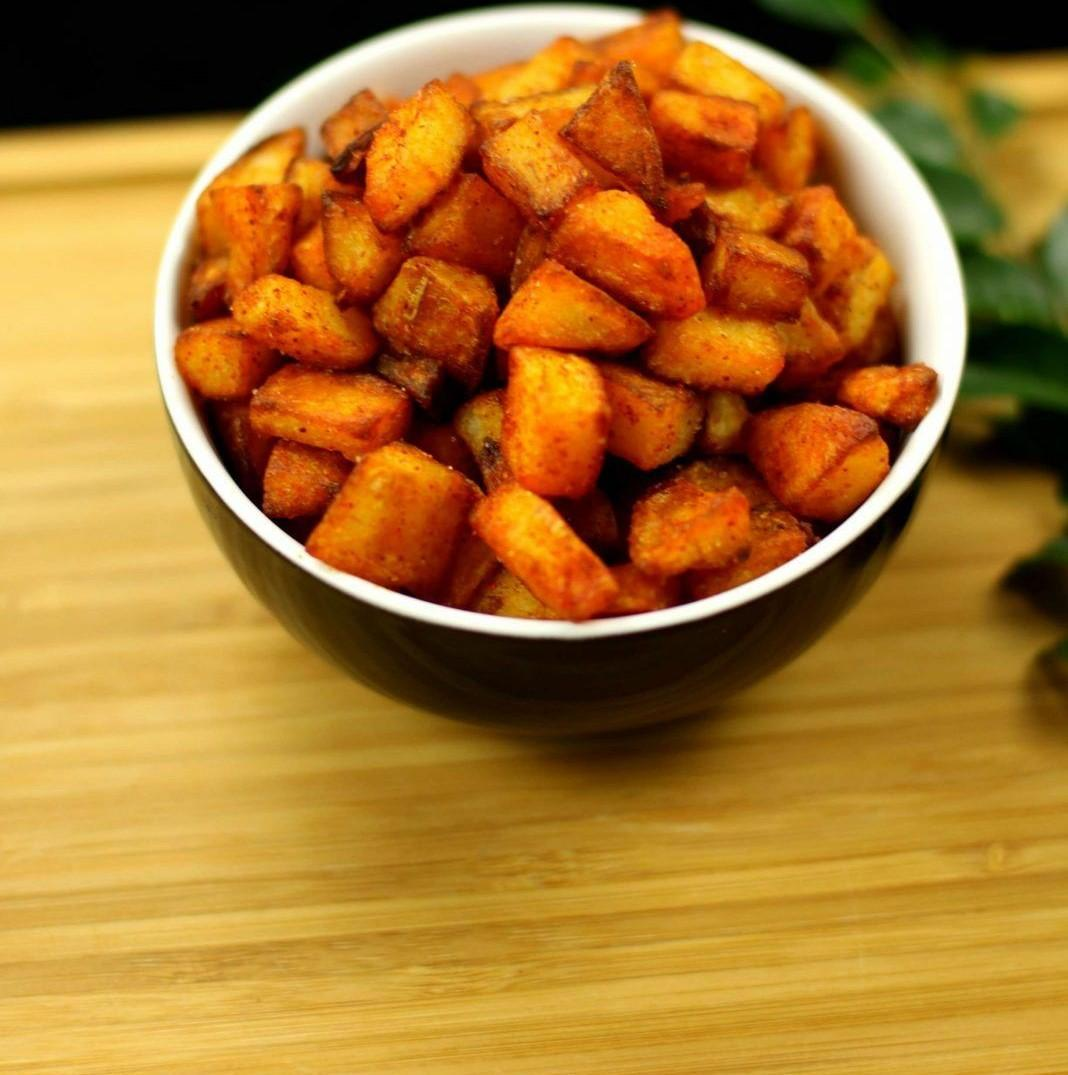AlooMasala: (175, 12, 941, 620)
